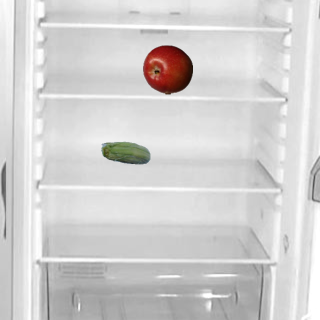Apple Braeburn: (142, 44, 192, 94)
Corn Husk: (100, 129, 150, 179)
